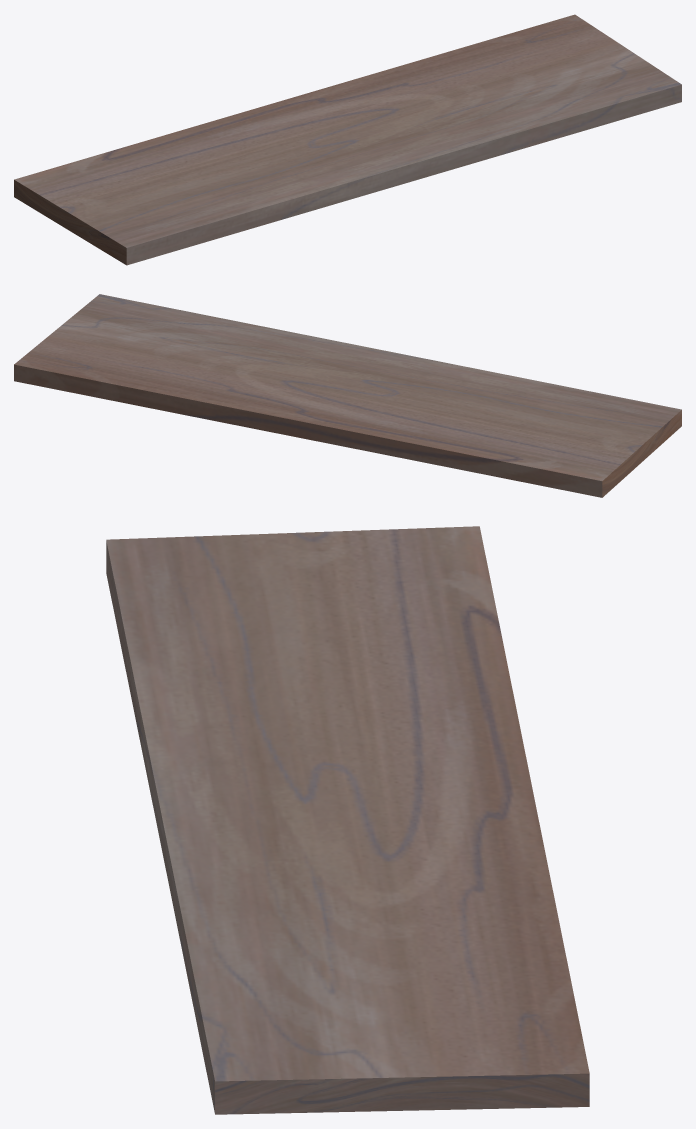
The model's file is plank_054.fbx.
The picture shows the model from 3 angles, top to bottom: view 1: azimuth 30°, elevation 25°; view 2: azimuth 150°, elevation 25°; view 3: azimuth 270°, elevation 25°; orthographic projection. The views are drawn at different scales.
Visible parts, largest first — view 1: plank.054; view 2: plank.054; view 3: plank.054.
Part boxes in pixels (x1,y1,x2,y2): plank.054: (14,14,681,265); plank.054: (14,294,681,497); plank.054: (106,526,589,1114).
Size of the model in its own units: 35.61 by 0.9957 by 13.11.
